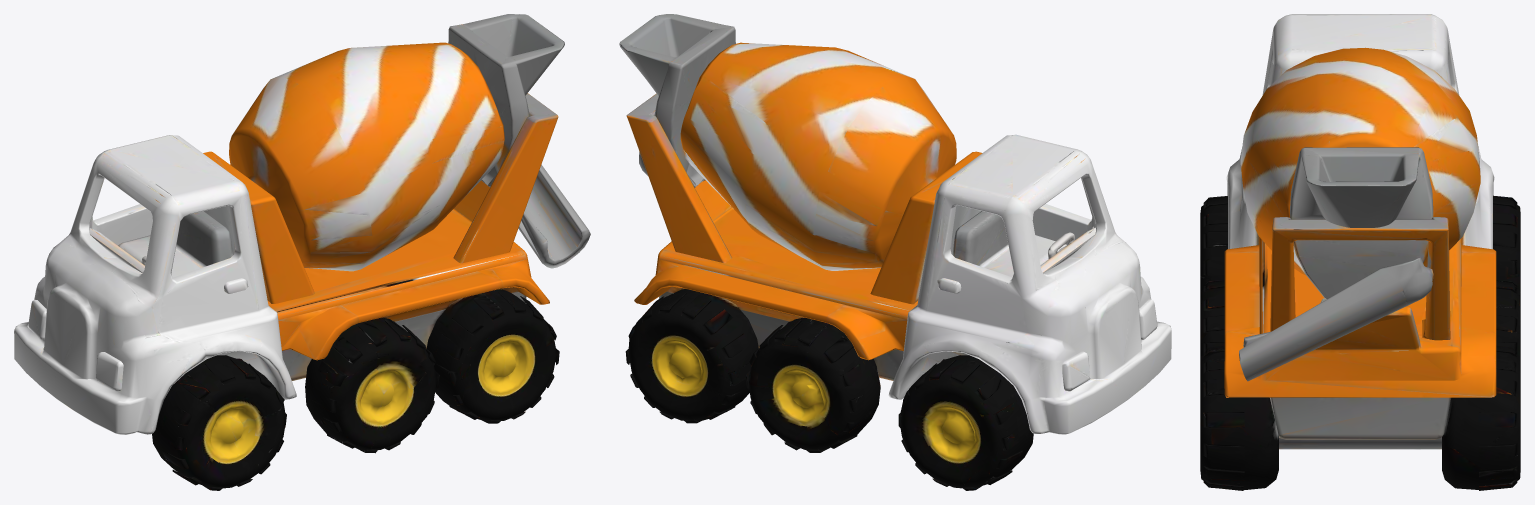
The model's file is veh-mixer.glb.
3 renders of one model, left to right at view 1: azimuth 30°, elevation 25°; view 2: azimuth 150°, elevation 25°; view 3: azimuth 270°, elevation 25°, orthographic. The views are drawn at different scales.
Size of the model in its own units: 1.53 by 1 by 0.7717.
Materials: 1 (1 with a texture image).
